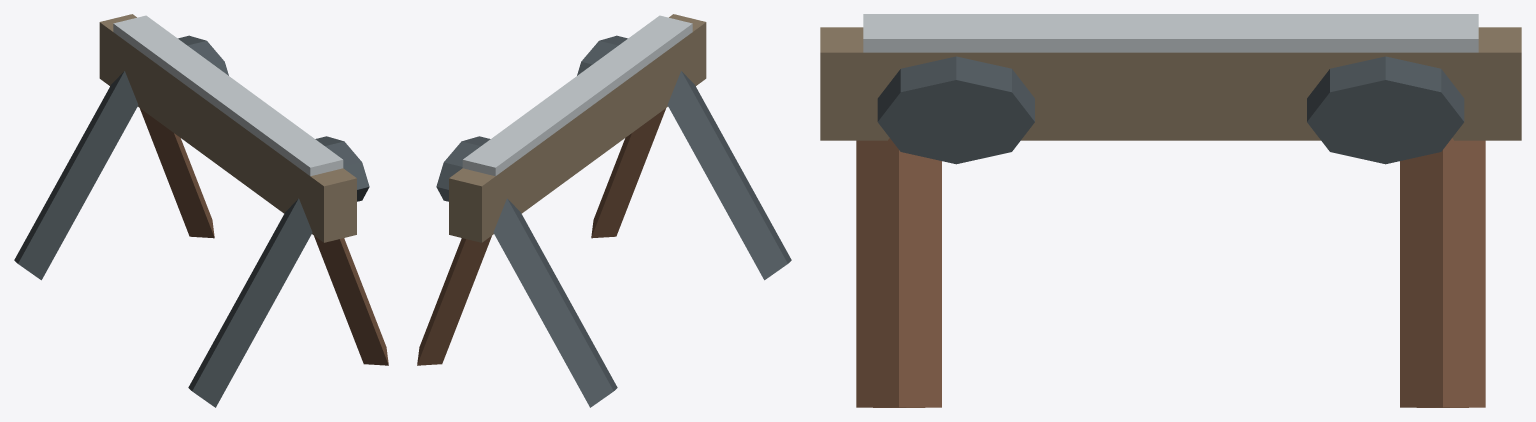
File: buffer_stop.glb
The picture shows the model from 3 angles, left to right: view 1: azimuth 30°, elevation 25°; view 2: azimuth 150°, elevation 25°; view 3: azimuth 270°, elevation 25°; orthographic projection. The views are drawn at different scales.
Parts seen in each view (by area): view 1: buffer_stop; view 2: buffer_stop; view 3: buffer_stop.
Part boxes in pixels (x1=…): buffer_stop: x1=14, y1=14, x2=388, y2=407; buffer_stop: x1=417, y1=14, x2=791, y2=407; buffer_stop: x1=820, y1=14, x2=1521, y2=407.
Bounding box in the file's own units: 1 × 1.1 × 2.
